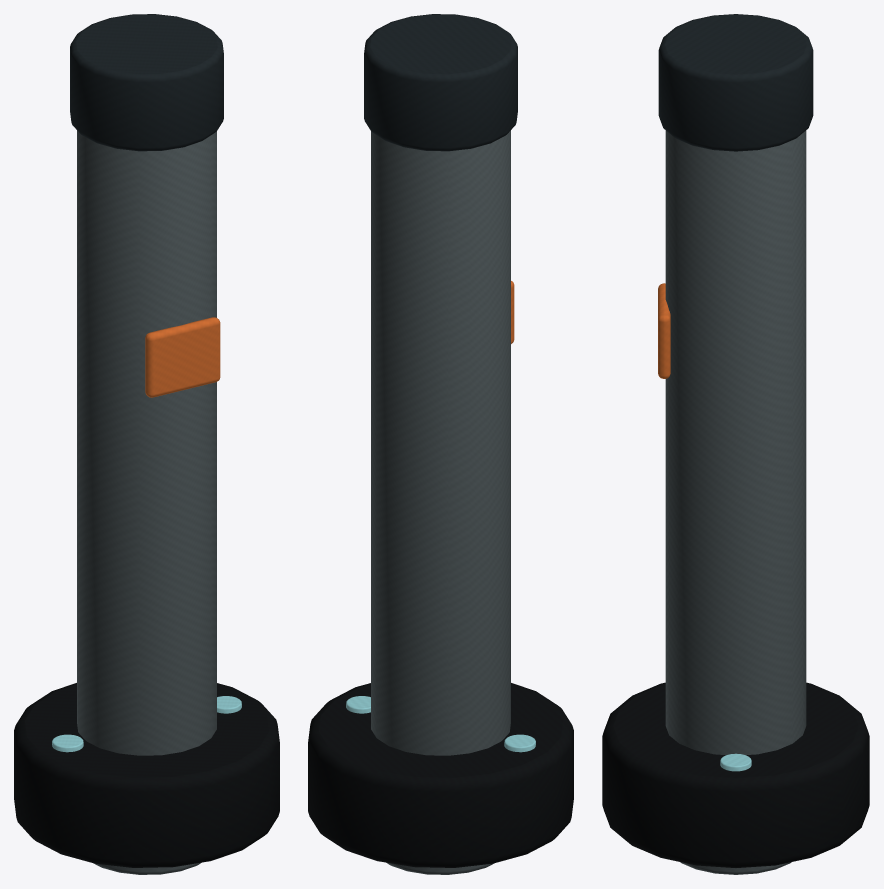
Rendered from WallBollard.glb.
3 renders of one model, left to right at view 1: azimuth 30°, elevation 25°; view 2: azimuth 150°, elevation 25°; view 3: azimuth 270°, elevation 25°, orthographic.
Parts seen in each view (by area): view 1: WallBollard_Mesh; view 2: WallBollard_Mesh; view 3: WallBollard_Mesh.
Part boxes in pixels (x1=…): WallBollard_Mesh: x1=14, y1=14, x2=279, y2=874; WallBollard_Mesh: x1=308, y1=14, x2=573, y2=874; WallBollard_Mesh: x1=602, y1=14, x2=869, y2=874.
Bounding box in the file's own units: 0.38 × 1.26 × 0.38.
5 materials, 5 textured.
